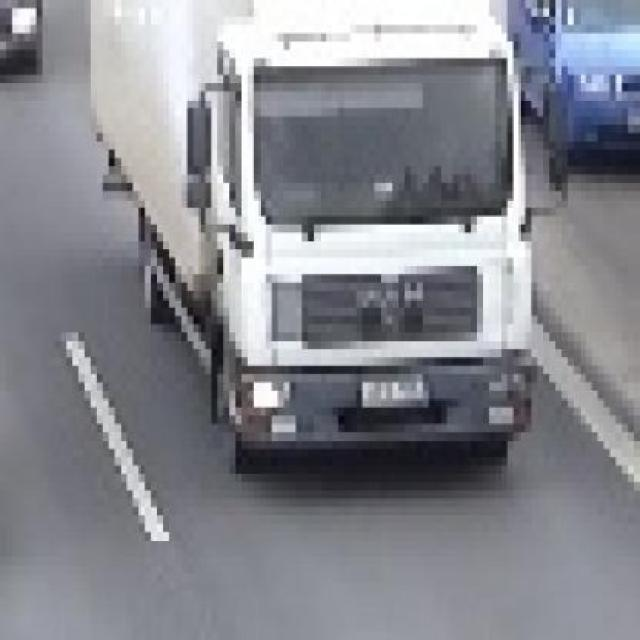truck: (86, 1, 563, 458)
